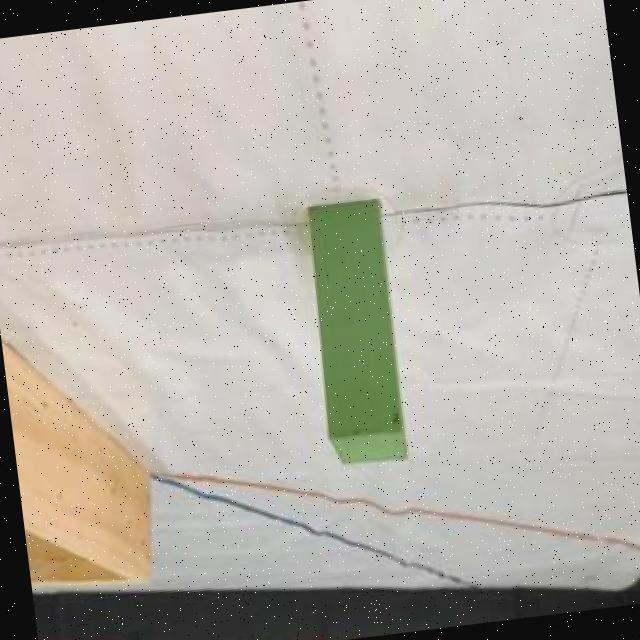greenbox: (295, 190, 418, 474)
